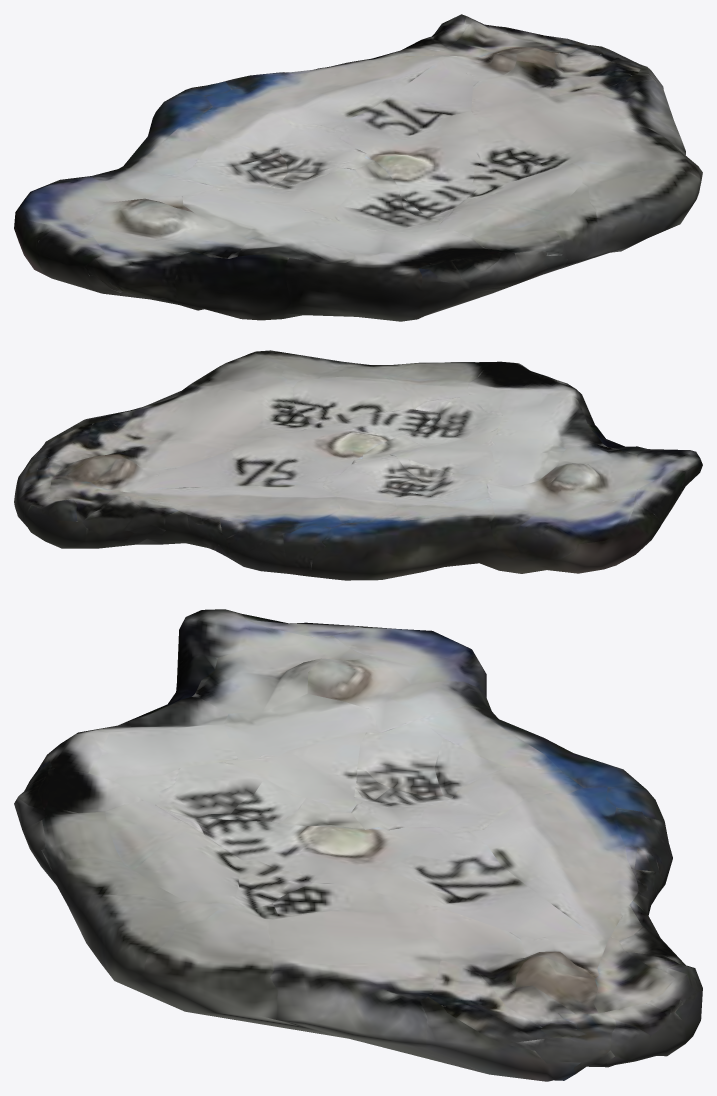
File: hall.glb
3 views of the same model, one above another, from view 1: azimuth 30°, elevation 25°; view 2: azimuth 150°, elevation 25°; view 3: azimuth 270°, elevation 25° (orthographic). The views are drawn at different scales.
Bounding box in the file's own units: 0.5729 × 0.0775 × 0.4326.
Materials: 1 (1 with a texture image).
